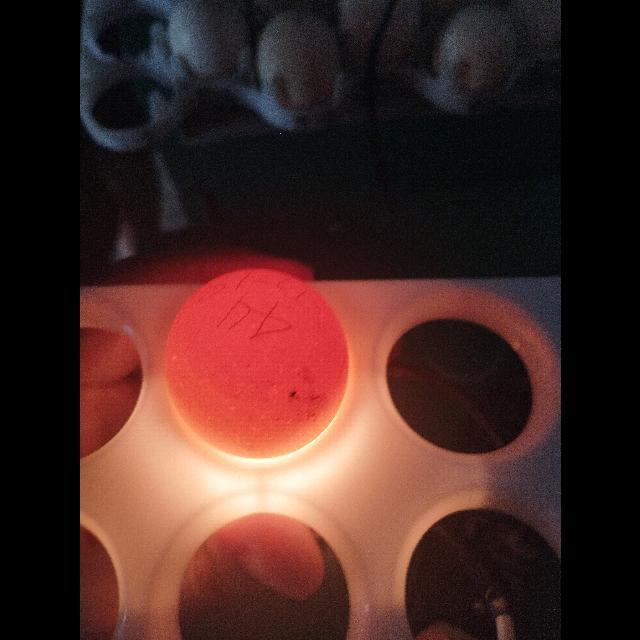Infertile: (159, 266, 355, 467)
